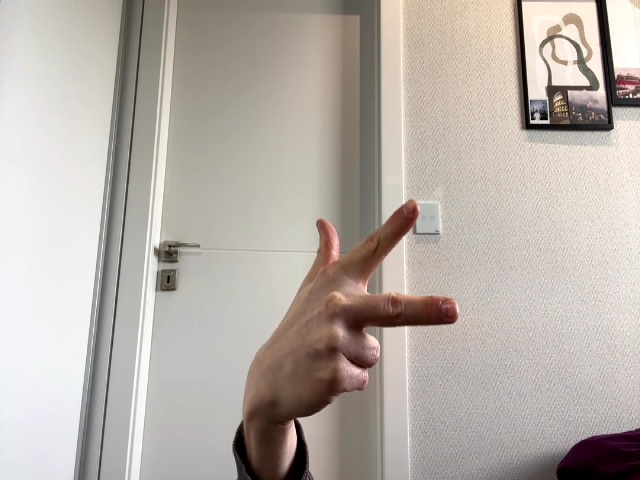K: (255, 200, 459, 414)
